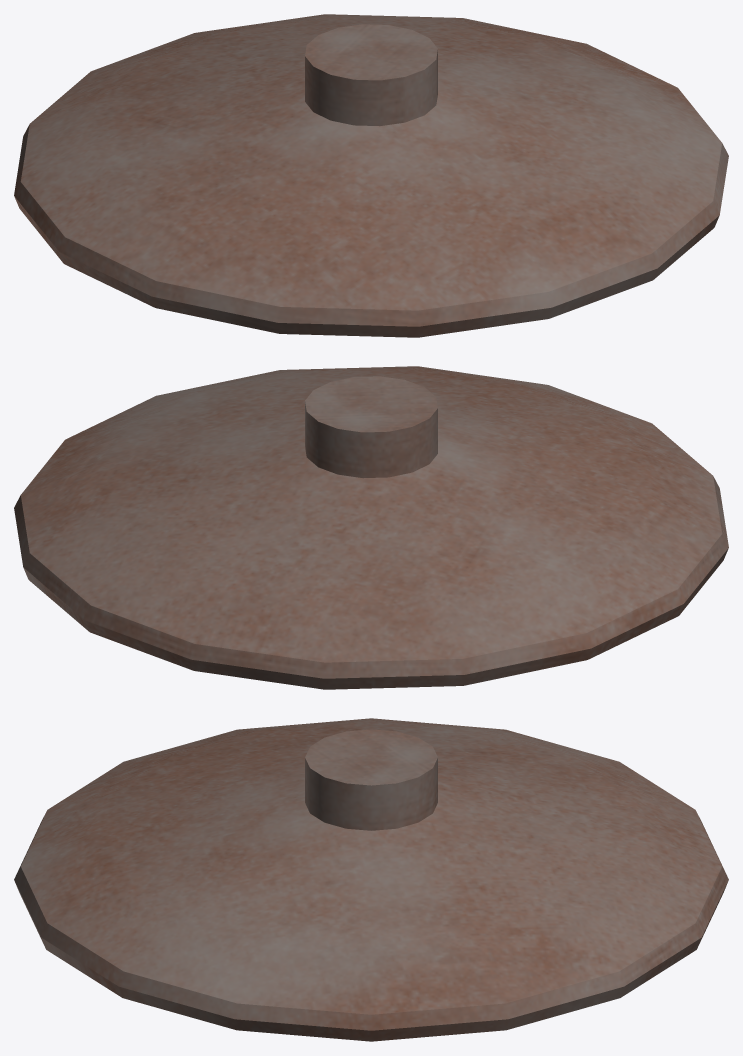
Rendered from vase_LP_Lid.FBX.
3 renders of one model, top to bottom at view 1: azimuth 30°, elevation 25°; view 2: azimuth 150°, elevation 25°; view 3: azimuth 270°, elevation 25°, orthographic.
Parts seen in each view (by area): view 1: vase_LP_Lid; view 2: vase_LP_Lid; view 3: vase_LP_Lid.
Boxes of the visible parts, x1=… form: vase_LP_Lid: x1=14, y1=14, x2=728, y2=337; vase_LP_Lid: x1=14, y1=366, x2=728, y2=689; vase_LP_Lid: x1=14, y1=718, x2=728, y2=1041.
Size of what is drawn, in the model's own units: 75.71 by 75.71 by 15.82.
